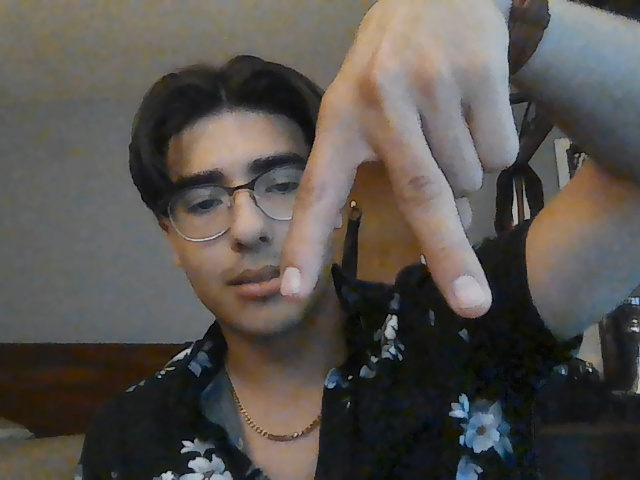Upside-down peace sign: (278, 66, 493, 321)
